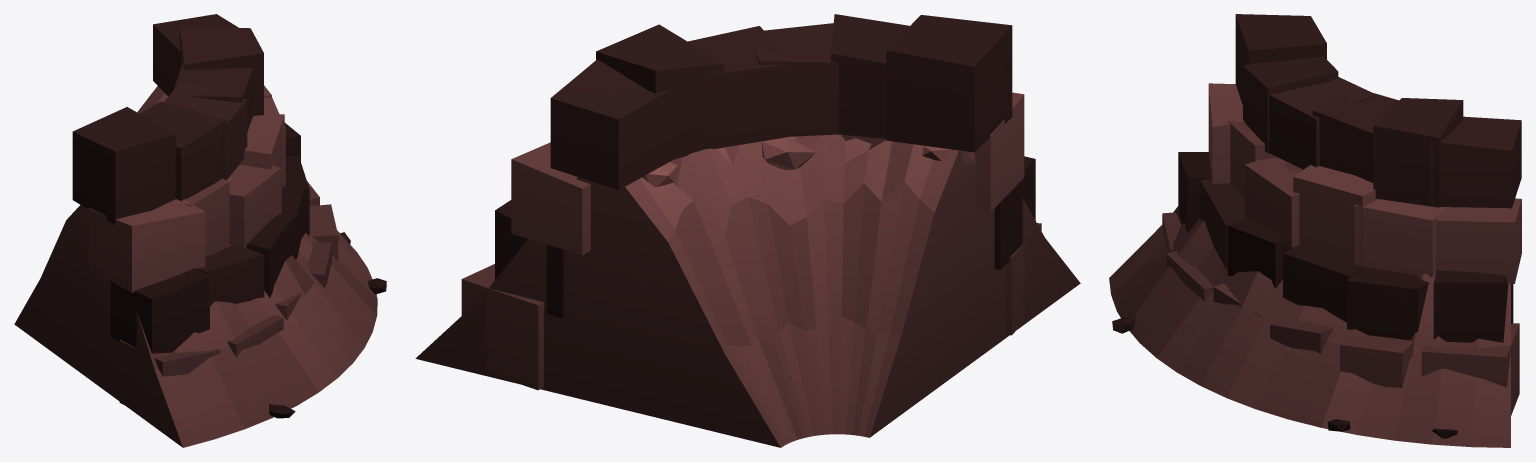
Rendered from cliff-fulgora-outer.glb.
3 views of the same model, side by side, from view 1: azimuth 30°, elevation 25°; view 2: azimuth 150°, elevation 25°; view 3: azimuth 270°, elevation 25° (orthographic). The views are drawn at different scales.
Visible parts, largest first — view 1: cliff-fulgora-outer; view 2: cliff-fulgora-outer; view 3: cliff-fulgora-outer.
Boxes of the visible parts, bbox=[...] form: cliff-fulgora-outer: bbox=[14, 14, 386, 447]; cliff-fulgora-outer: bbox=[415, 14, 1080, 447]; cliff-fulgora-outer: bbox=[1109, 14, 1521, 447].
Size of the model in its own units: 3.89 by 2.71 by 3.85.
